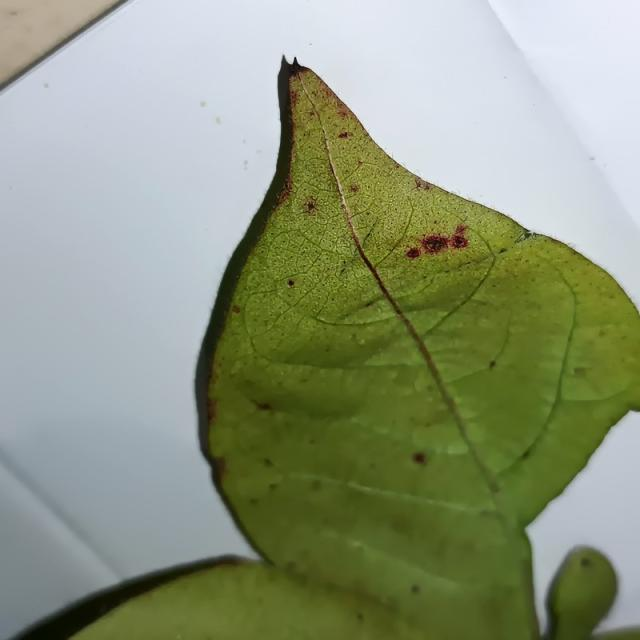Bacterial_Blight: (421, 234, 451, 255), (411, 447, 431, 472), (334, 101, 352, 121), (212, 452, 226, 473), (206, 398, 217, 423), (452, 234, 469, 249), (414, 178, 432, 191), (303, 199, 317, 214), (478, 508, 495, 519), (454, 224, 468, 237), (283, 177, 293, 194), (310, 478, 323, 491), (284, 560, 297, 573), (256, 400, 271, 411), (405, 248, 420, 259), (573, 366, 588, 377), (520, 448, 531, 460), (262, 457, 274, 467), (337, 131, 351, 139), (348, 184, 359, 194), (580, 557, 591, 567), (231, 304, 241, 314), (410, 584, 420, 594), (268, 481, 278, 491), (249, 496, 259, 506), (286, 278, 295, 288), (598, 329, 607, 337), (365, 300, 374, 308), (356, 159, 364, 167), (356, 613, 364, 621), (489, 360, 496, 369), (340, 203, 347, 210), (309, 111, 315, 117), (395, 164, 400, 169), (366, 212, 371, 216), (434, 220, 438, 224)
Cotton: (20, 58, 639, 639)
